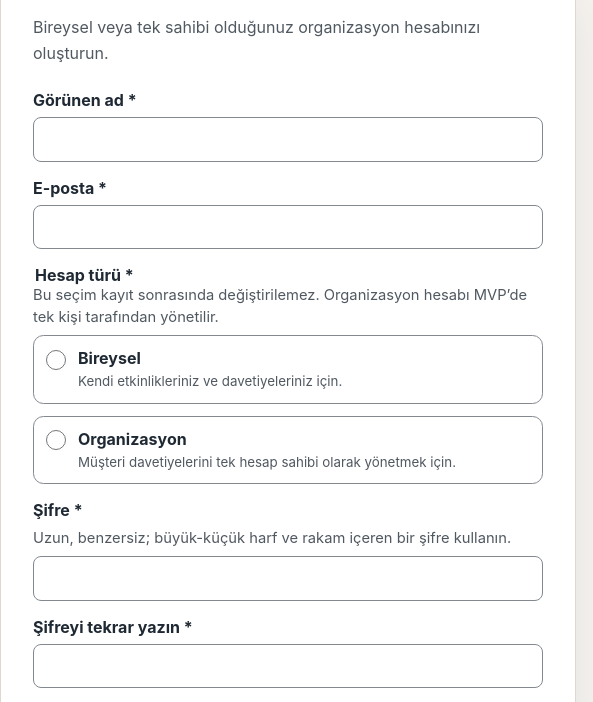
Creator authentication pages › explains password policy failures without exposing the API detail
Type "Ada" into the field labelled "Görünen ad *" at (288, 140), box [33,117,543,162]
Type "ada@example.test" into the field labelled "E-posta *" at (288, 227), box [33,205,543,249]
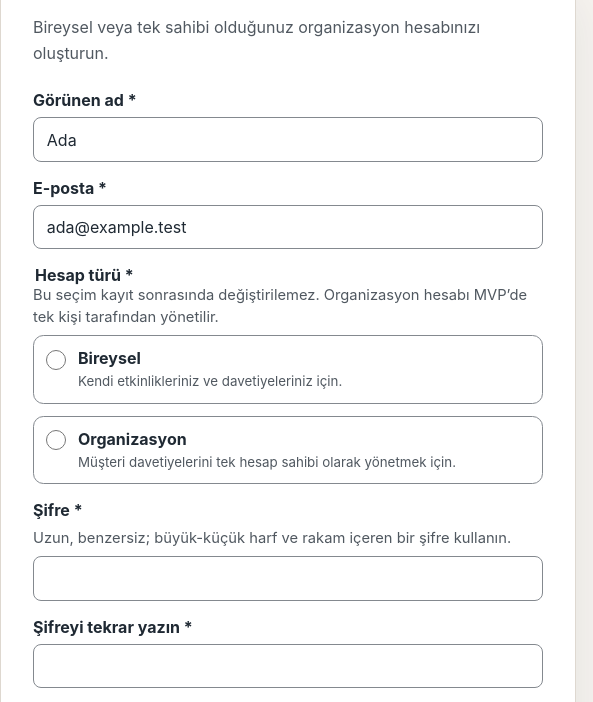
Click the radio button labelled "Bireysel Kendi etkinlikleriniz ve davetiyeleriniz için." at (56, 360), box [46,350,66,370]
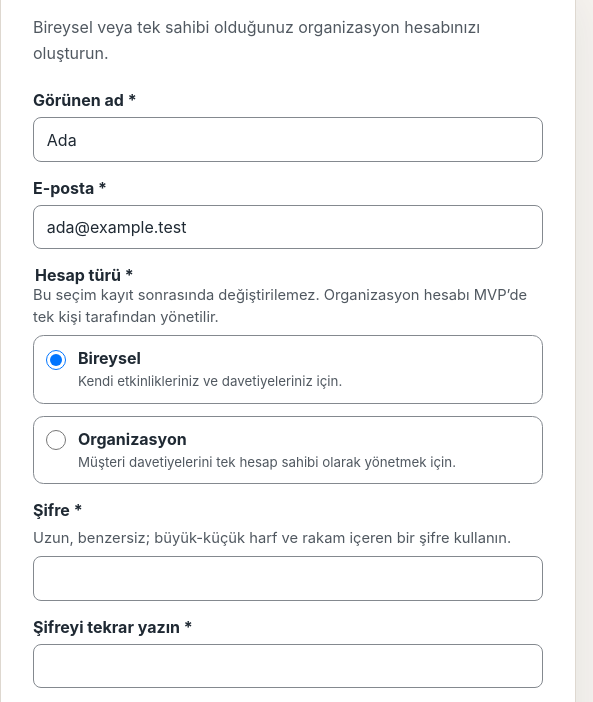
Type "weak" into the password field with id "register-password" at (288, 578), box [33,556,543,601]
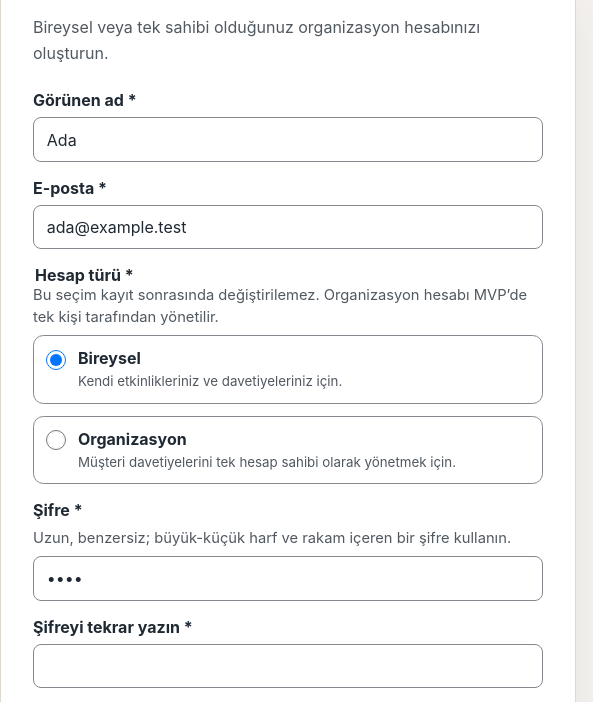
Type "weak" into the password field labelled "Şifreyi tekrar yazın *" at (288, 666), box [33,644,543,688]
(page scrolled)
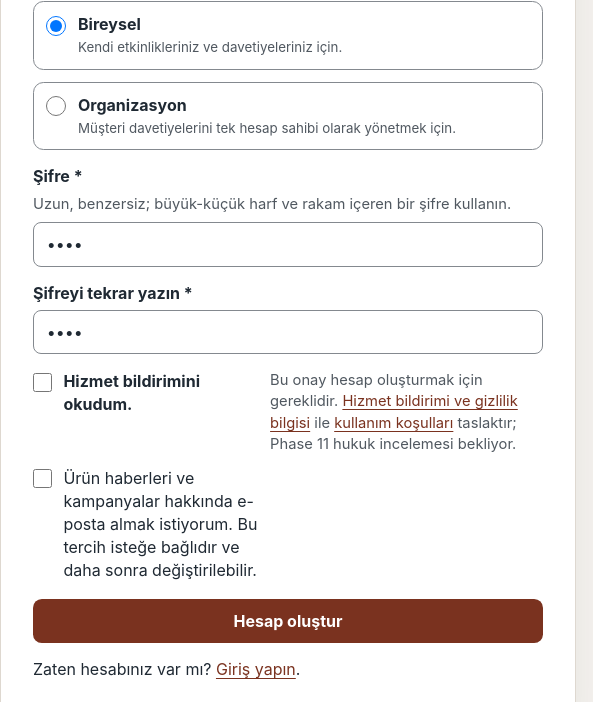
Click the checkbox labelled "Hizmet bildirimini okudum." at (43, 382), box [33,372,52,392]
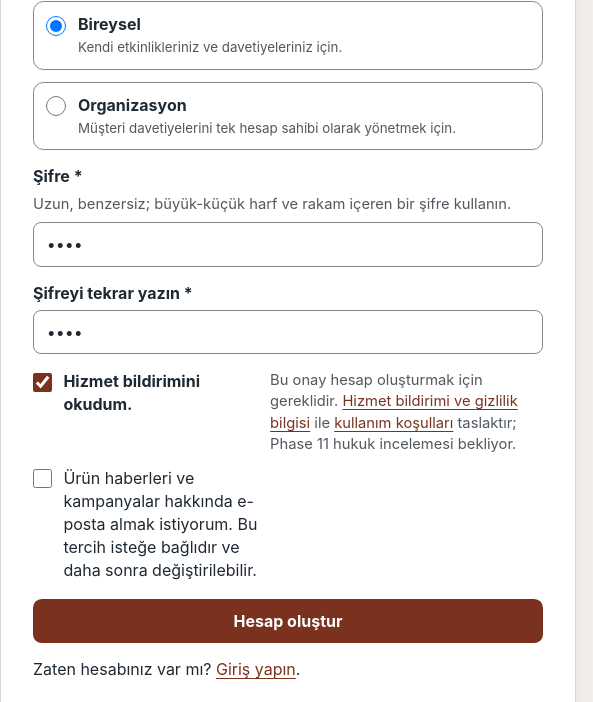
Click the button "Hesap oluştur" at (288, 621), box [33,598,543,643]
(page scrolled)
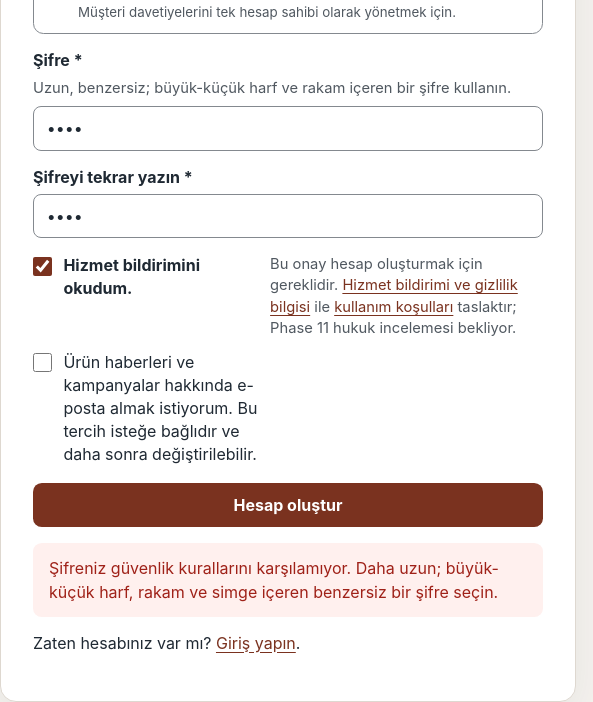
expect the message shows "güvenlik kurallarını karşılamıyor": met, box [49,558,499,602]
